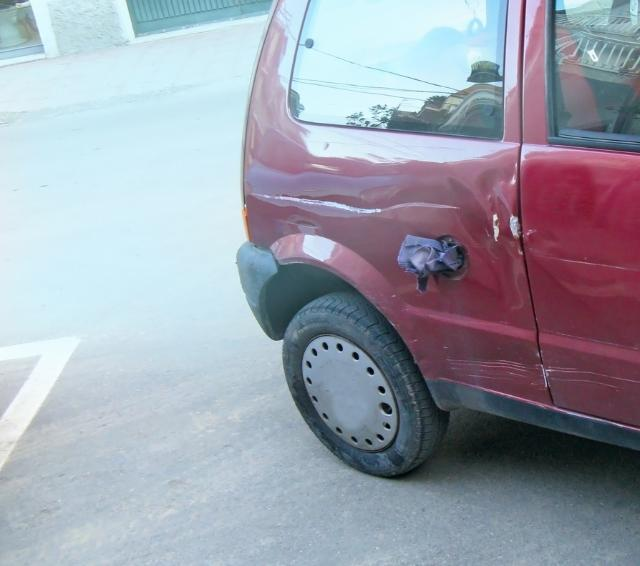Fender: (254, 140, 539, 395)
